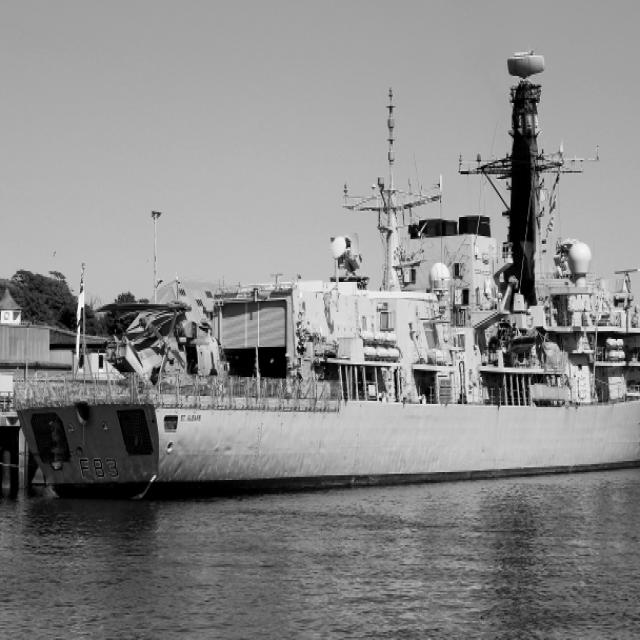Fragata: (8, 80, 640, 513)
